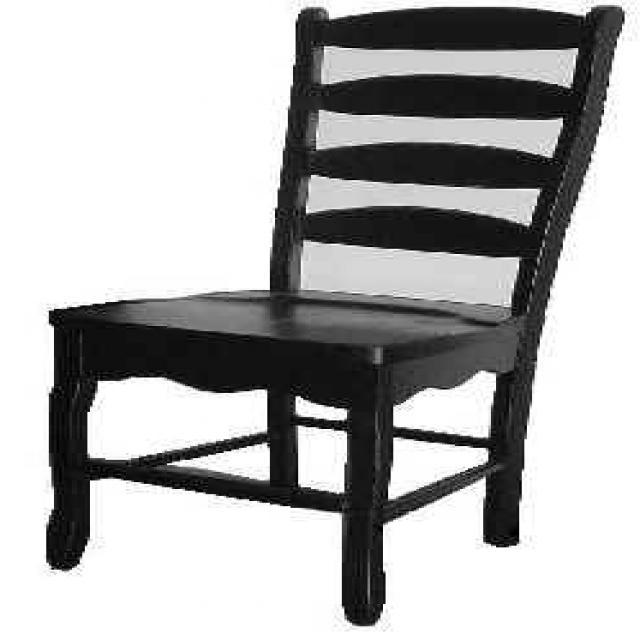chair: (41, 2, 626, 630)
